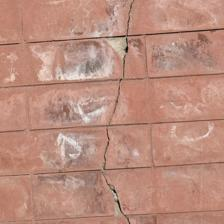Crack: (11, 30, 122, 108), (4, 0, 64, 110)
